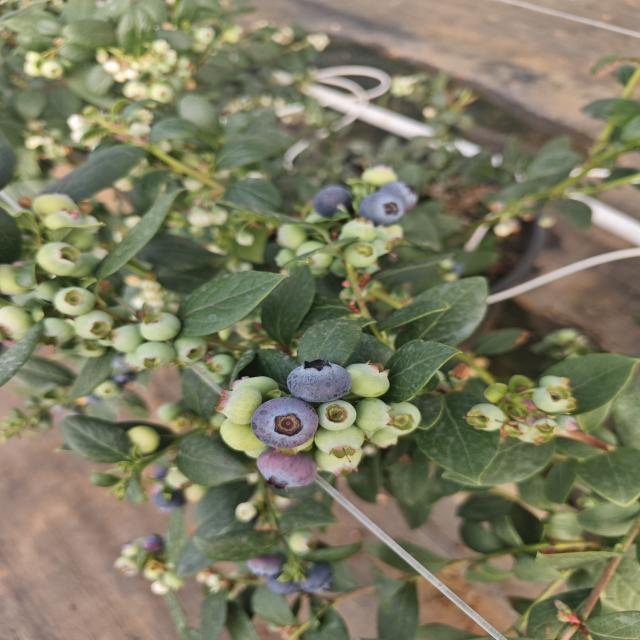ripe: (243, 552, 337, 600), (248, 396, 320, 452), (283, 358, 354, 404), (355, 180, 420, 228), (253, 446, 320, 492), (142, 465, 196, 514), (309, 184, 354, 221), (135, 530, 179, 560)
